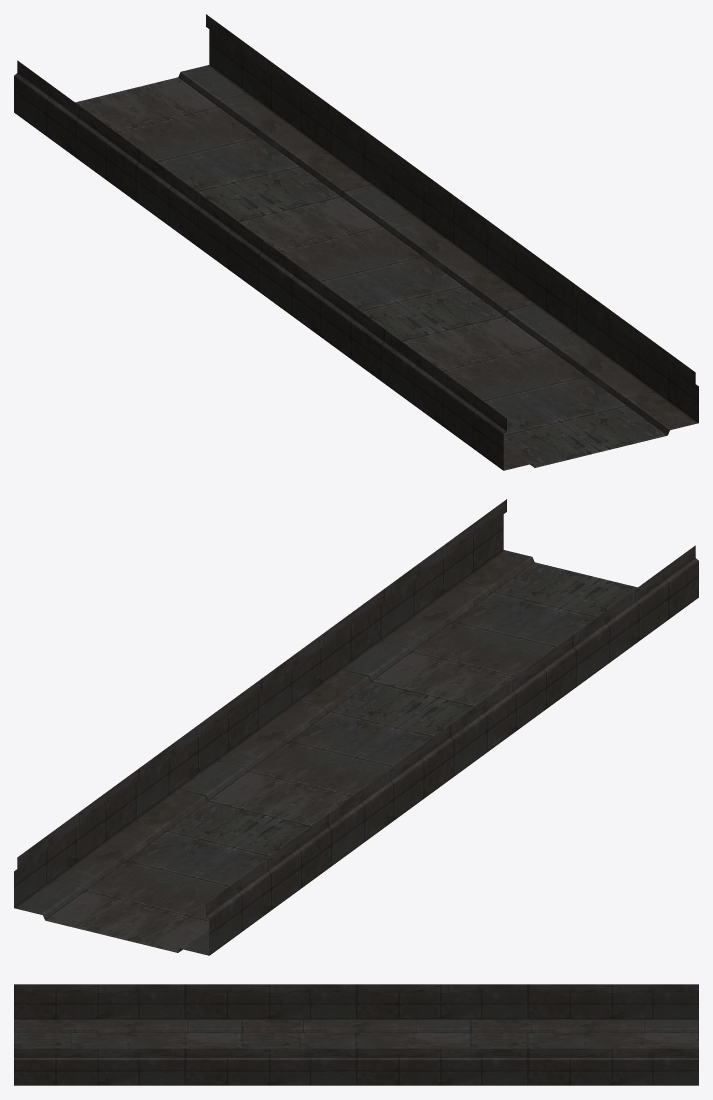
Rendered from ts_xhmjdm.FBX.
The picture shows the model from 3 angles, top to bottom: view 1: azimuth 30°, elevation 25°; view 2: azimuth 150°, elevation 25°; view 3: azimuth 270°, elevation 25°; orthographic projection. The views are drawn at different scales.
Visible parts, largest first — view 1: ts_xhmjdm03, ts_xhmjdm01, ts_xhmjdm02; view 2: ts_xhmjdm03, ts_xhmjdm01, ts_xhmjdm02; view 3: ts_xhmjdm03, ts_xhmjdm01, ts_xhmjdm02.
Boxes of the visible parts, left/top/right/bottom form: ts_xhmjdm03: left=14, top=14, right=698, bottom=470; ts_xhmjdm01: left=75, top=77, right=667, bottom=467; ts_xhmjdm02: left=178, top=65, right=698, bottom=470; ts_xhmjdm03: left=14, top=499, right=698, bottom=955; ts_xhmjdm01: left=45, top=562, right=637, bottom=952; ts_xhmjdm02: left=14, top=550, right=534, bottom=955; ts_xhmjdm03: left=14, top=984, right=698, bottom=1085; ts_xhmjdm01: left=14, top=1033, right=698, bottom=1048; ts_xhmjdm02: left=14, top=1019, right=698, bottom=1032.
Size of the model in its own units: 18.24 by 5.03 by 79.12.
